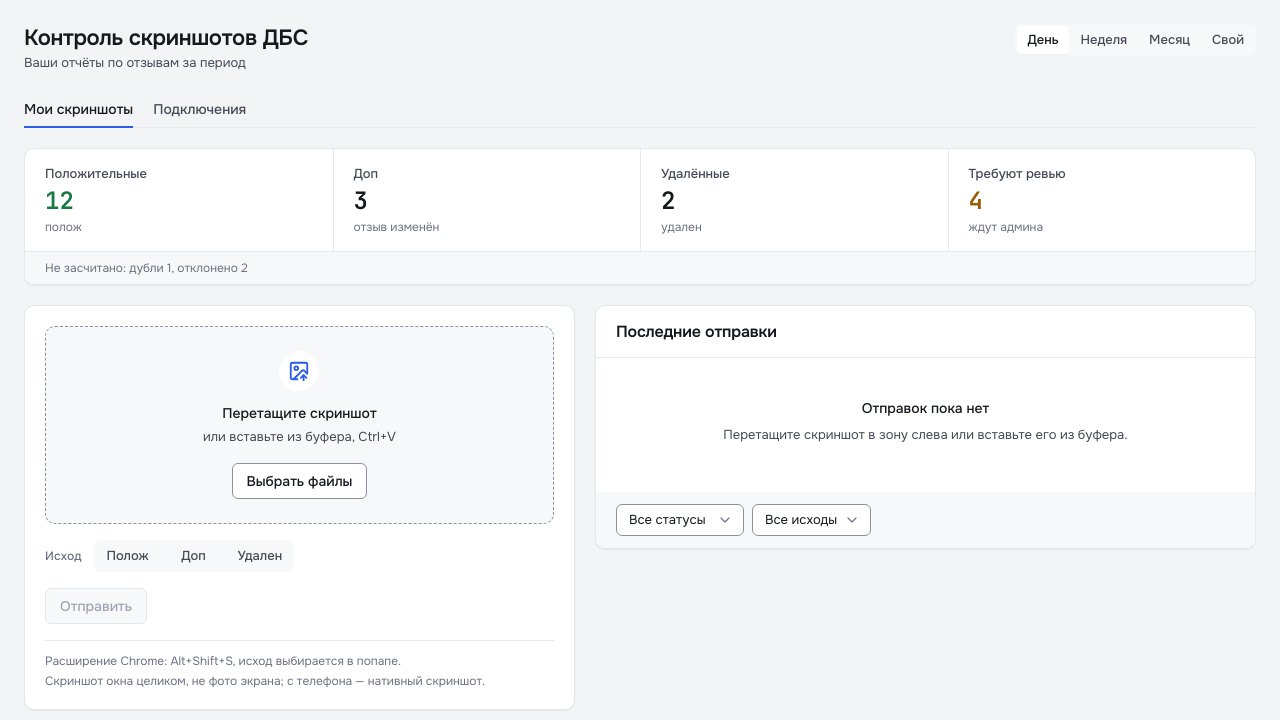
Scenario: ScreenshotControlPage › offers a retry when the timezone does not load
Click the tab "Подключения": (200, 110) [153,92,246,128]
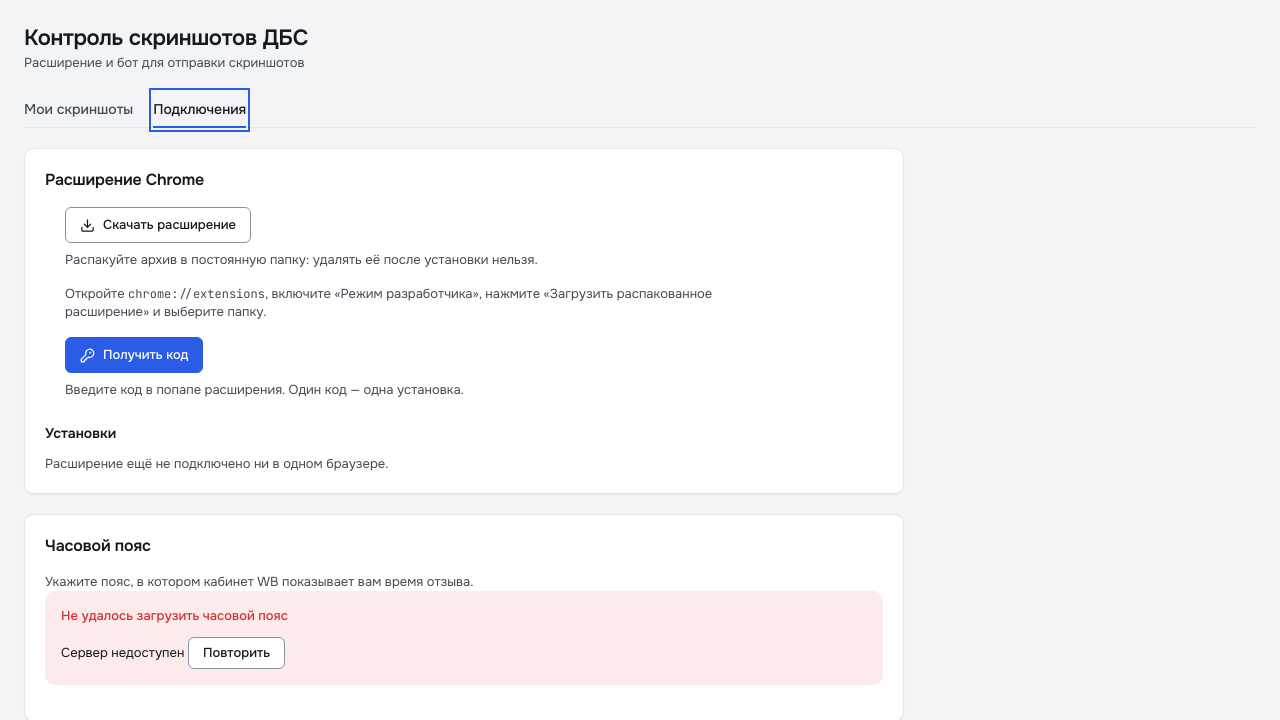
Check: the message shows "Не удалось загрузить часовой пояс", box [61,607,288,624]
Check: the button "Повторить" is shown, box [188,637,285,669]
